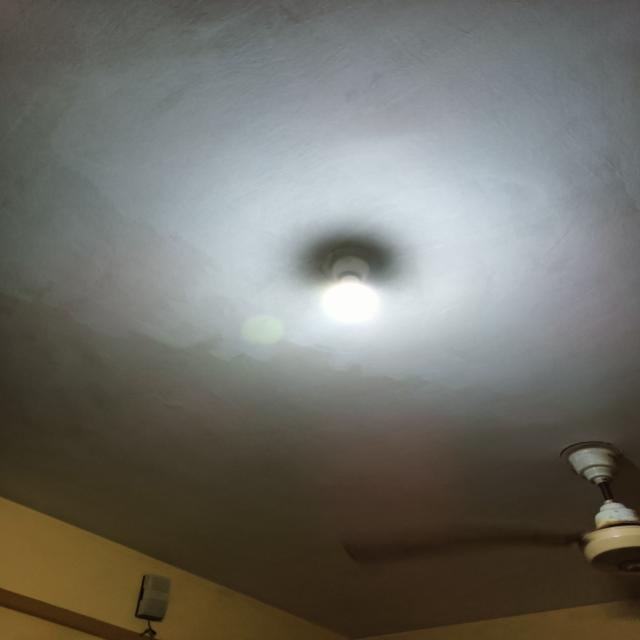bulb_on: (316, 254, 382, 333)
